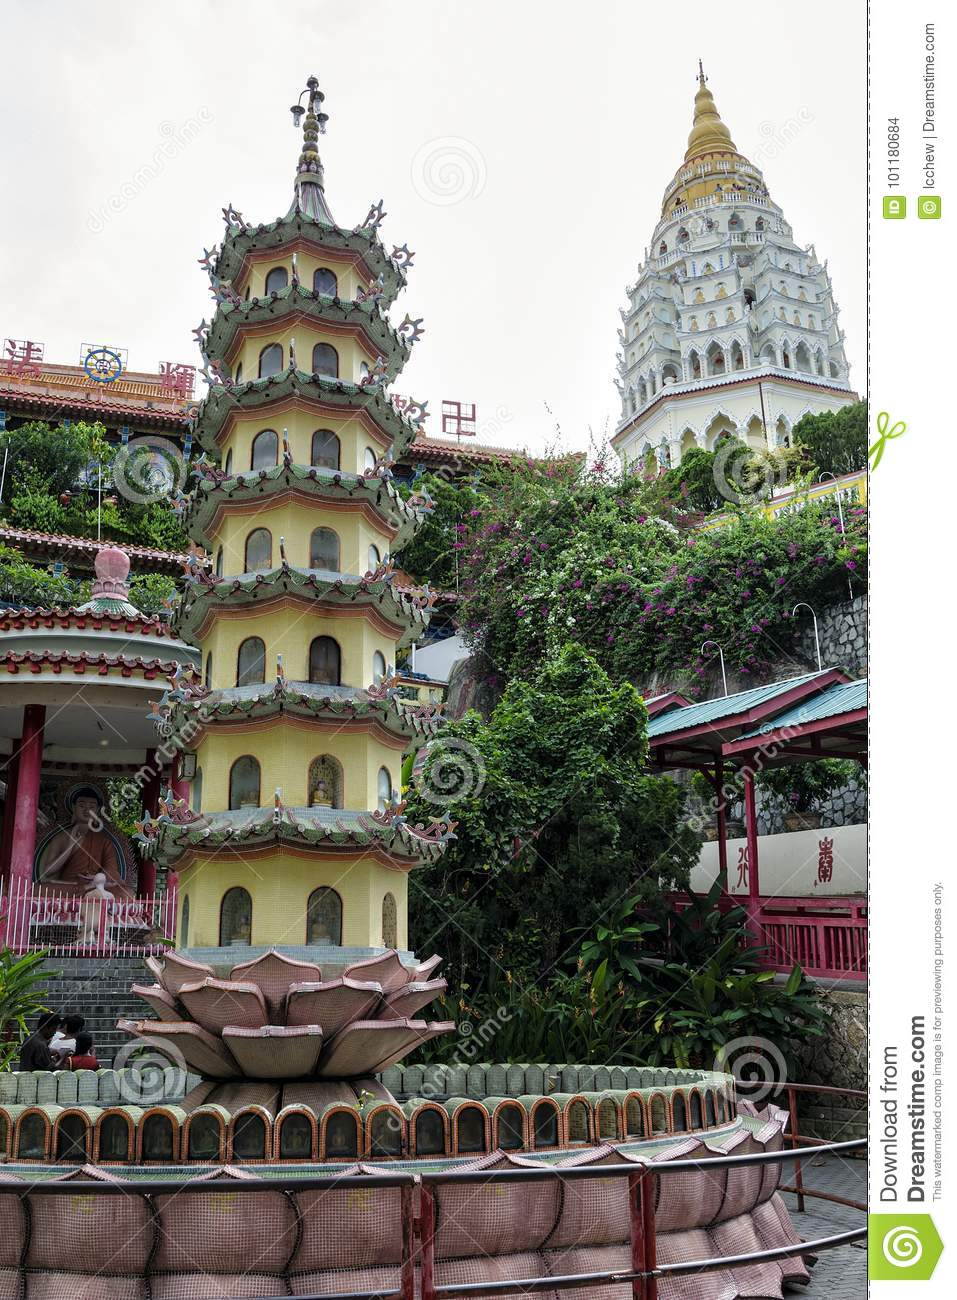Buddhist Temple: (198, 52, 835, 1067)
